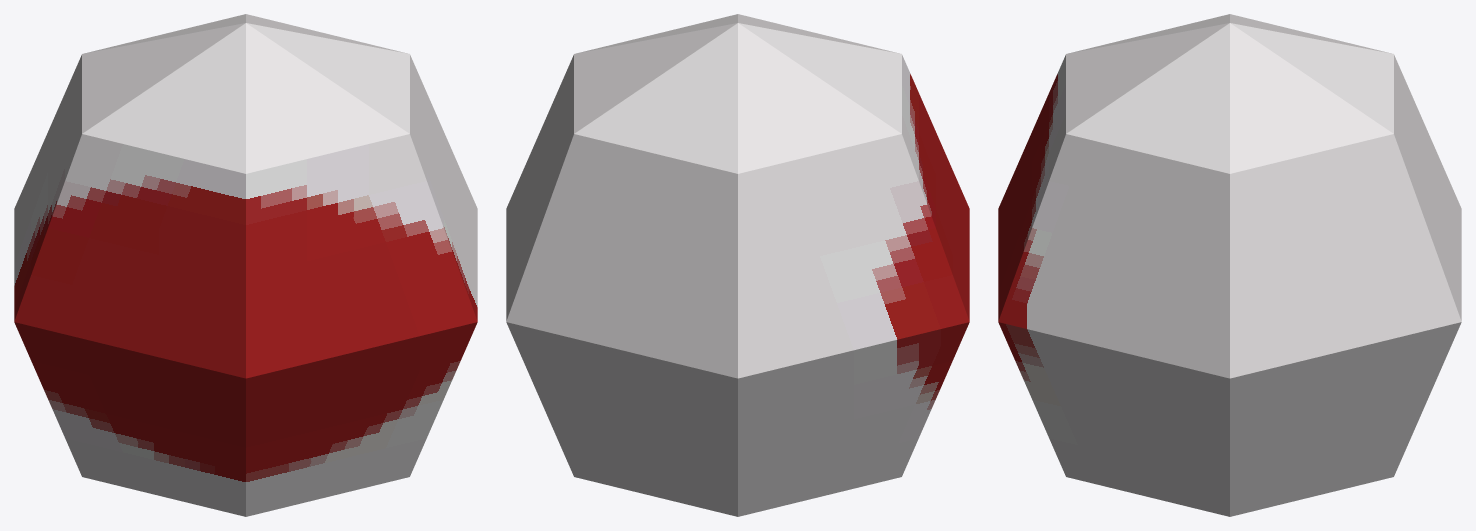
Rendered from FURNITURE_Pool Ball.obj.
3 views of the same model, side by side, from view 1: azimuth 30°, elevation 25°; view 2: azimuth 150°, elevation 25°; view 3: azimuth 270°, elevation 25° (orthographic).
Bounding box in the file's own units: 0.0531 × 0.0531 × 0.046.
Materials: 1 (1 with a texture image).
